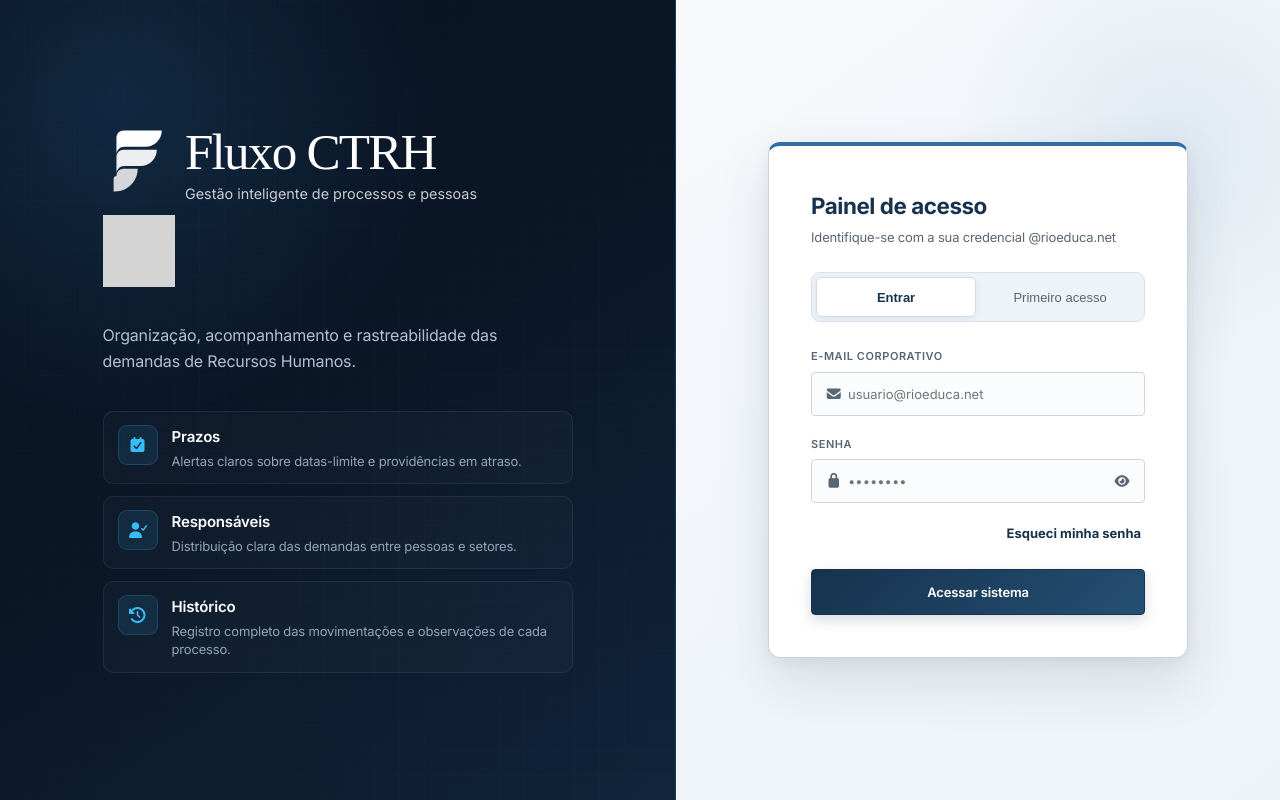
Test case: segurança e acessibilidade do login › mantém no formulário de primeiro acesso os erros junto aos campos
This screenshot has width=1280, height=800.
Click the button "Primeiro acesso": (1060, 297) [980,277,1140,317]
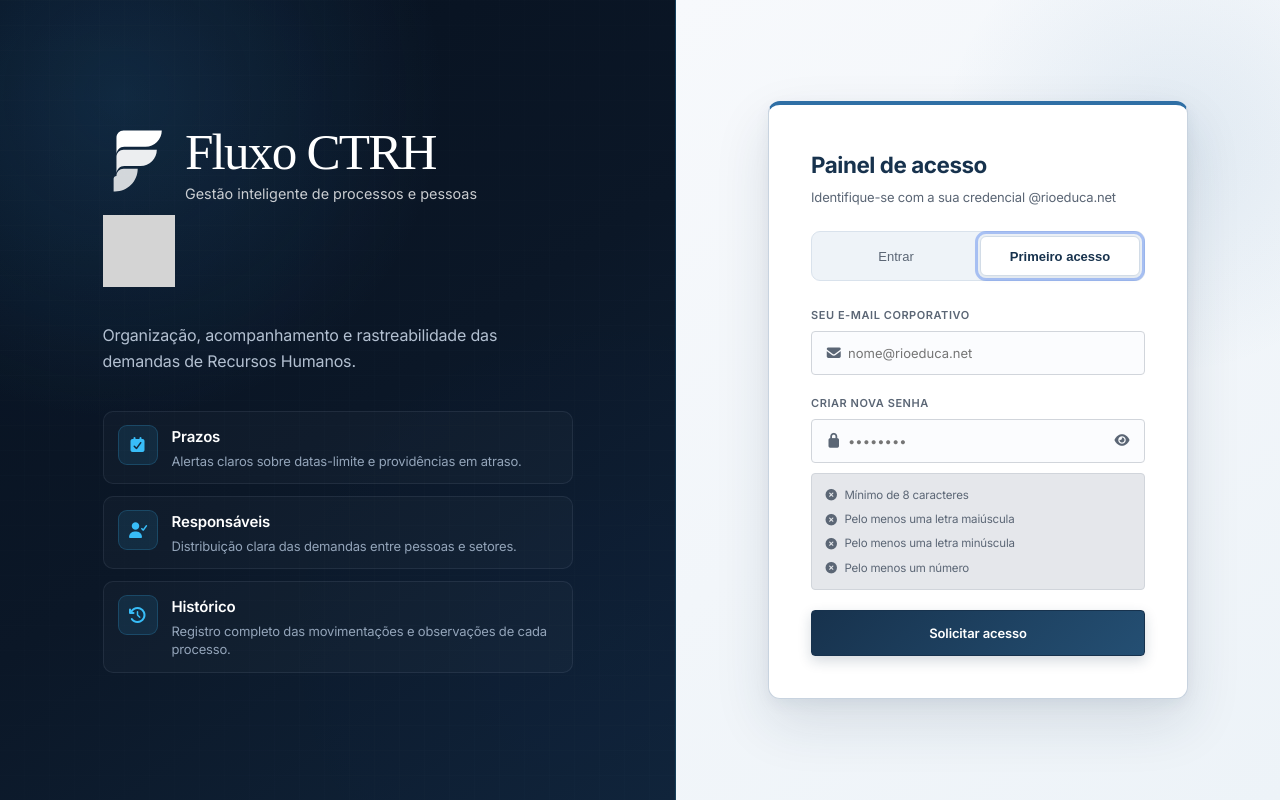
In the field with placeholder "nome@rioeduca.net": (978, 353) [811,331,1145,375], type "usuario@exemplo.com"
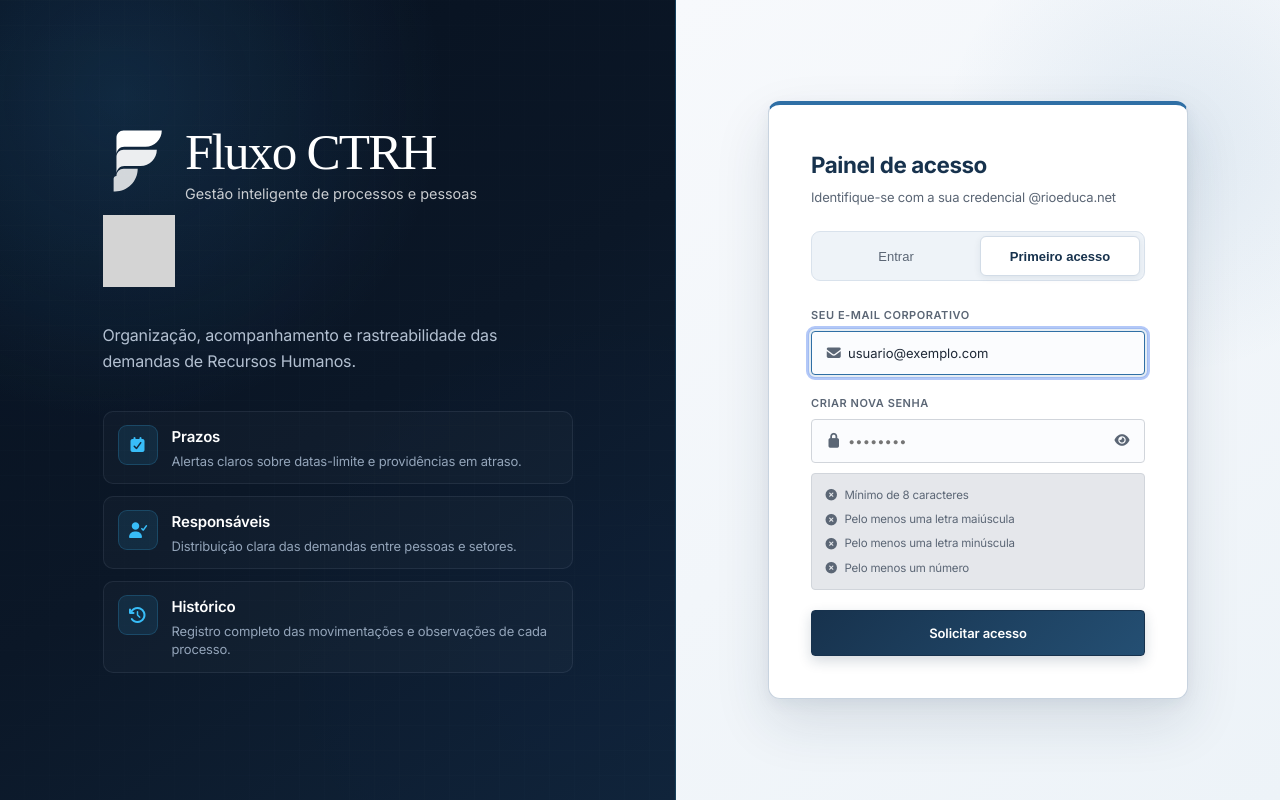
In the password field with placeholder "••••••••": (978, 441) [811,419,1145,463], type "fraca"
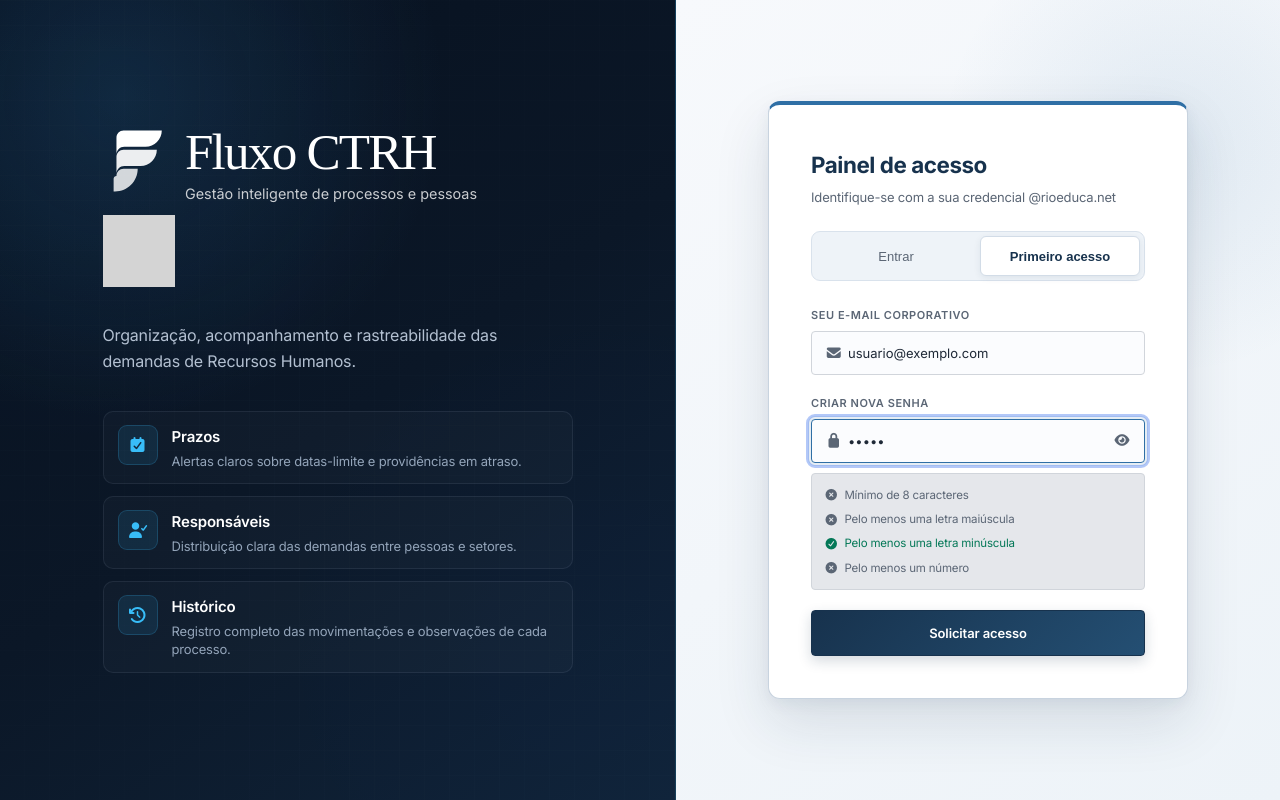
Click the button "Solicitar acesso": (978, 633) [811,610,1145,656]
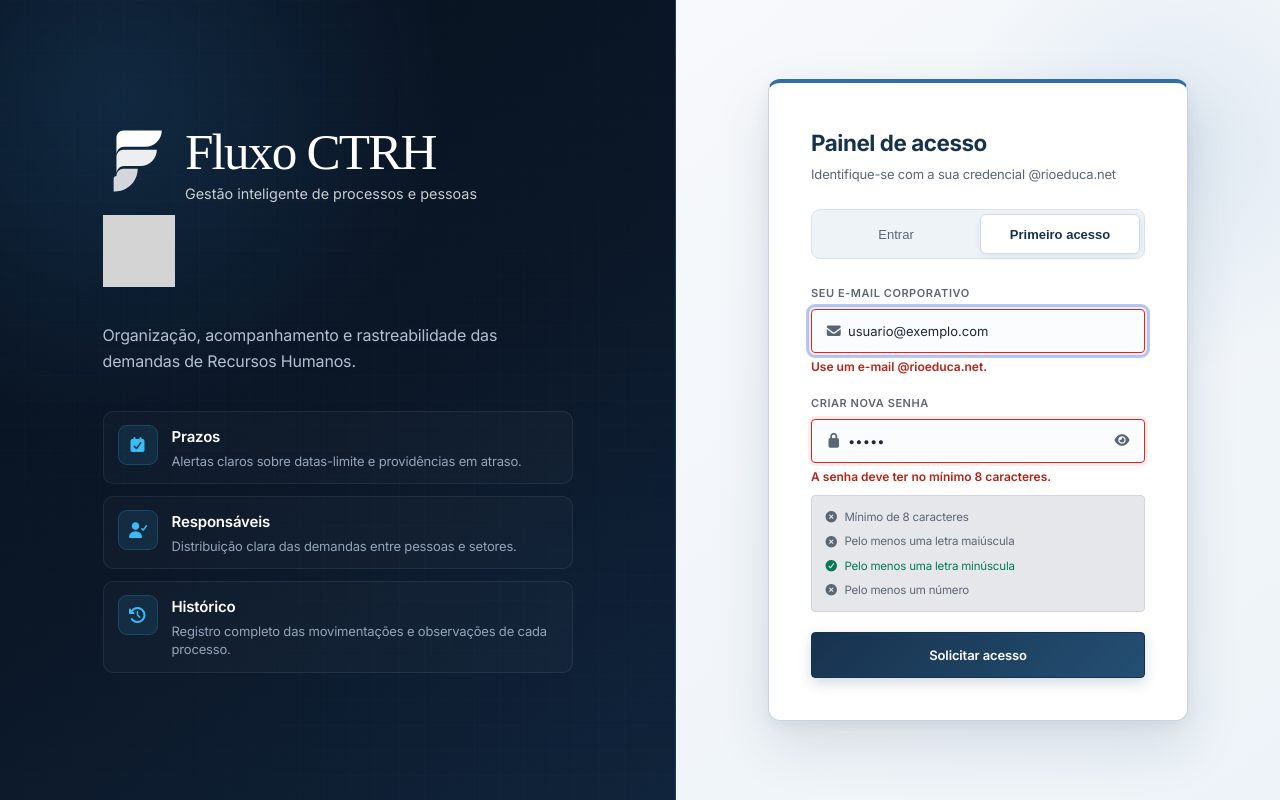
Check: the text "Use um e-mail @rioeduca.net." is shown, box [811,359,987,374]
Check: the text "A senha deve ter no mínimo 8 caracteres." is shown, box [811,469,1051,484]
